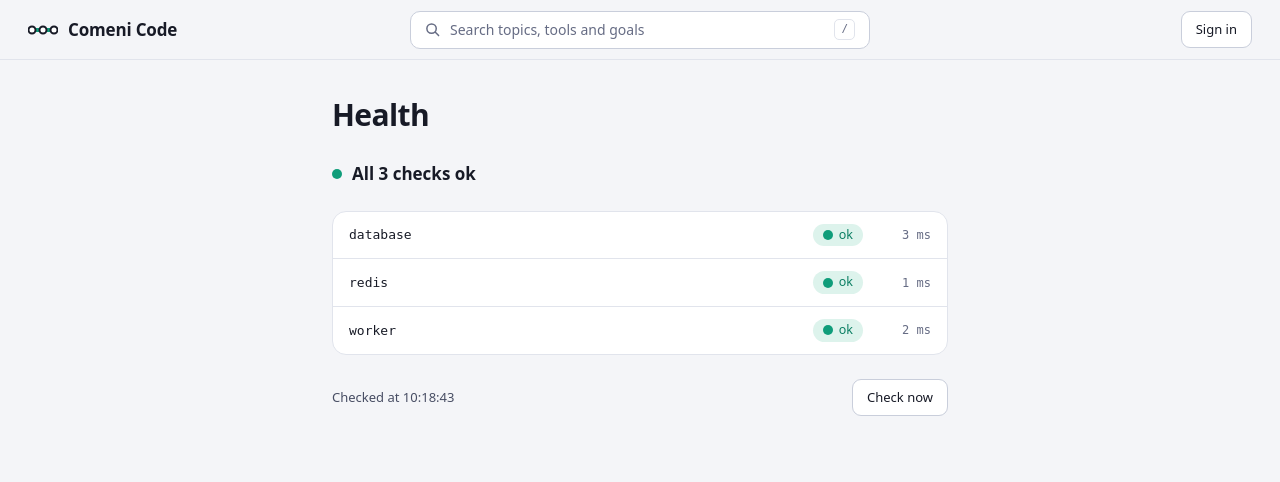
Test: HealthPage › keeps the last result, marked stale, when a later check fails
Expected: the message reads "All 3 checks ok", [352,162,476,185]
What coordinates should you click on to do the following:
click the button "Check now"
I would click on:
 (900, 398)
Its box is [852,379,948,416].
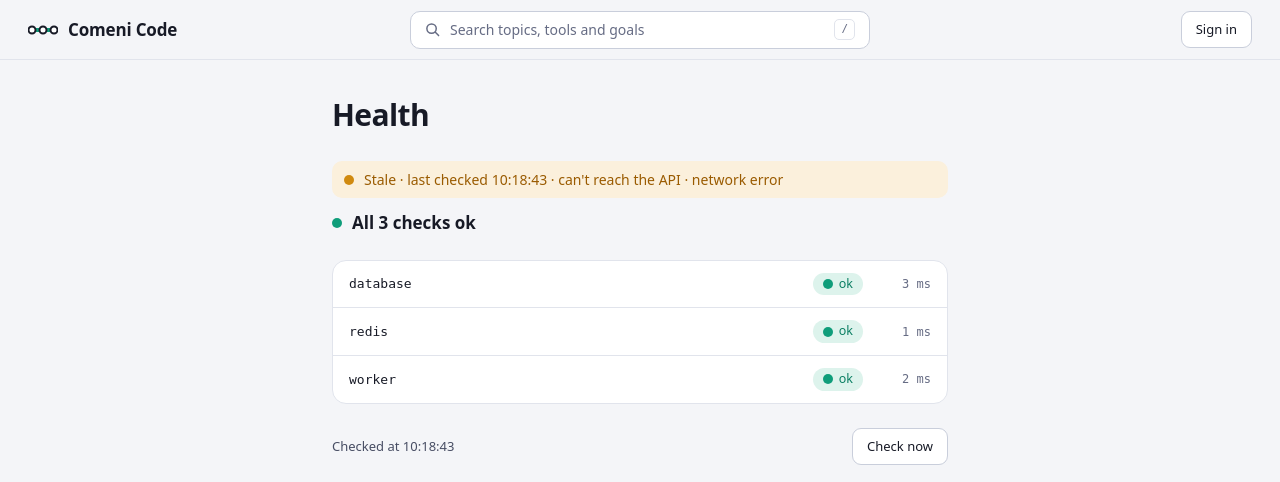
Expected: the number of list items is 3, [333,260,947,308]; [333,308,947,356]; [349,368,931,391]
Now the message shows "network error", box [692,170,783,189]
